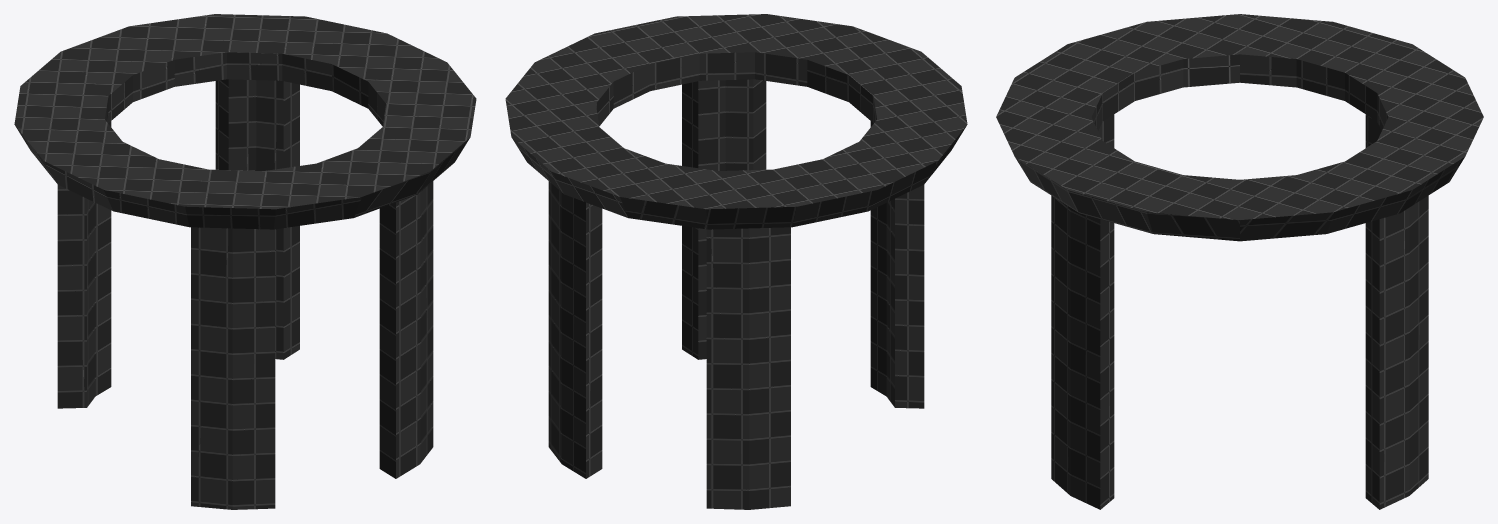
File: RingStructurePH.fbx
3 views of the same model, side by side, from view 1: azimuth 30°, elevation 25°; view 2: azimuth 150°, elevation 25°; view 3: azimuth 270°, elevation 25° (orthographic). The views are drawn at different scales.
Visible parts, largest first — view 1: GardenPlat; view 2: GardenPlat; view 3: GardenPlat.
Boxes of the visible parts, bbox=[...] form: GardenPlat: bbox=[14, 14, 476, 509]; GardenPlat: bbox=[505, 14, 967, 509]; GardenPlat: bbox=[996, 14, 1483, 509].
Bounding box in the file's own units: 740 × 554 × 740.
